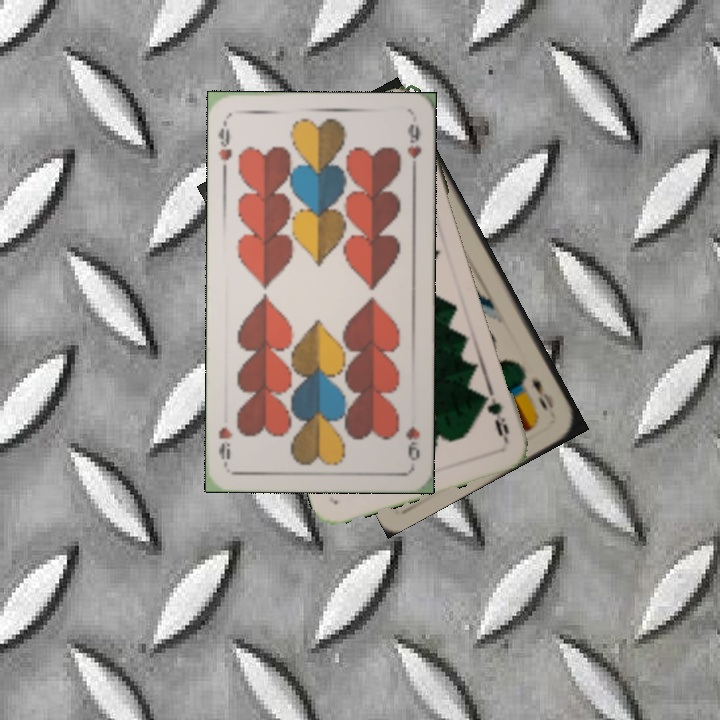EO: (527, 375, 557, 414)
G9: (478, 387, 512, 445)
H9: (214, 116, 234, 175), (401, 423, 422, 464)
